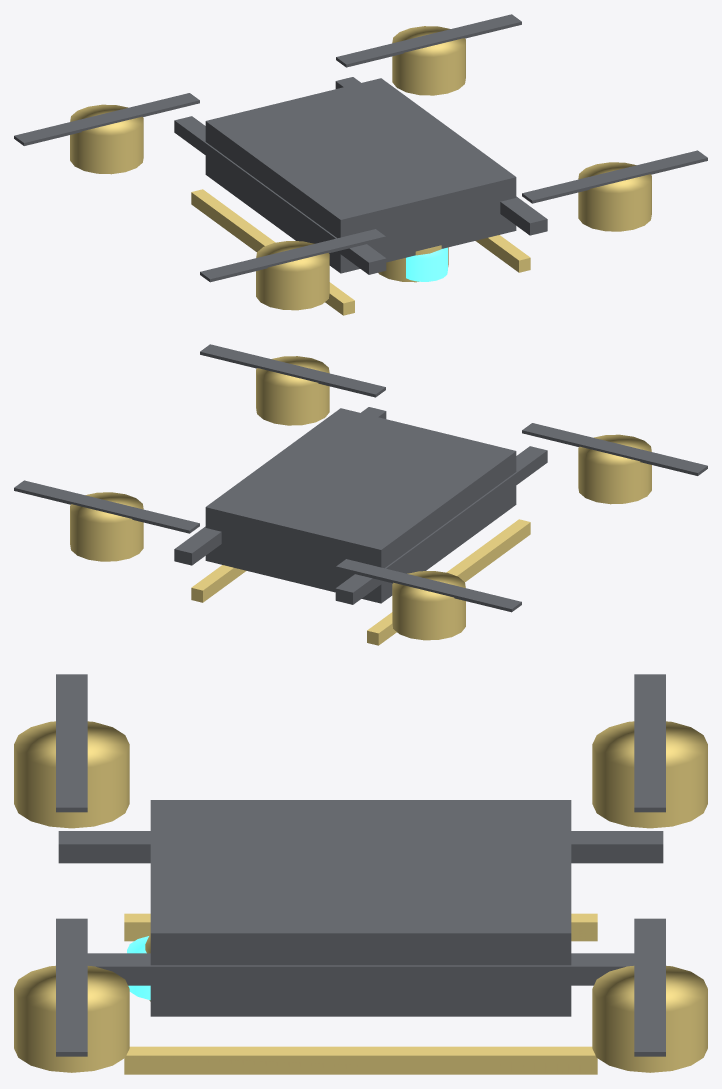
The model's file is aeroscan_mark4_drone.glb.
3 renders of one model, top to bottom at view 1: azimuth 30°, elevation 25°; view 2: azimuth 150°, elevation 25°; view 3: azimuth 270°, elevation 25°, orthographic. The views are drawn at different scales.
Visible parts, largest first — view 1: Fuselage_Body, Motor_FrontRight, Motor_RearRight, Motor_RearLeft, Motor_FrontLeft, Rotor_FrontRight, Rotor_RearRight, Rotor_FrontLeft, Rotor_RearLeft, Skid_Left, Arm_FrontLeft, Arm_RearLeft (+4 smaller); view 2: Fuselage_Body, Motor_RearRight, Motor_FrontRight, Motor_FrontLeft, Motor_RearLeft, Rotor_RearRight, Rotor_FrontRight, Rotor_RearLeft, Rotor_FrontLeft, Skid_Left, Arm_FrontLeft, Arm_RearLeft (+2 smaller); view 3: Fuselage_Body, Skid_Right, Motor_FrontRight, Motor_RearRight, Motor_FrontLeft, Motor_RearLeft, Arm_FrontRight, Arm_RearRight, Rotor_FrontRight, Rotor_FrontLeft, Rotor_RearRight, Rotor_RearLeft (+3 smaller).
Boxes of the visible parts, x1,y1,x2,y2 form: Fuselage_Body: (205, 78, 516, 273); Motor_FrontRight: (578, 162, 651, 231); Motor_RearRight: (392, 26, 465, 95); Motor_RearLeft: (70, 104, 143, 174); Motor_FrontLeft: (256, 241, 329, 310); Rotor_FrontRight: (522, 150, 707, 203); Rotor_RearRight: (336, 14, 521, 67); Rotor_FrontLeft: (200, 229, 385, 282); Rotor_RearLeft: (14, 93, 199, 145); Skid_Left: (191, 189, 354, 315); Arm_FrontLeft: (267, 188, 386, 274); Arm_RearLeft: (174, 116, 276, 202); Fuselage_Body: (205, 408, 516, 603); Motor_RearRight: (70, 492, 143, 561); Motor_FrontRight: (256, 356, 329, 425); Motor_FrontLeft: (578, 434, 651, 504); Motor_RearLeft: (392, 571, 465, 640); Rotor_RearRight: (14, 480, 199, 533); Rotor_FrontRight: (200, 344, 385, 397); Rotor_RearLeft: (336, 559, 521, 612); Rotor_FrontLeft: (522, 423, 707, 475); Skid_Left: (367, 519, 530, 645); Arm_FrontLeft: (445, 446, 547, 536); Arm_RearLeft: (335, 518, 454, 604); Fuselage_Body: (150, 800, 571, 1016); Skid_Right: (124, 1046, 597, 1074); Motor_FrontRight: (14, 965, 129, 1072); Motor_RearRight: (592, 965, 707, 1072); Motor_FrontLeft: (14, 721, 129, 828); Motor_RearLeft: (592, 721, 707, 828); Arm_FrontRight: (87, 953, 373, 985); Arm_RearRight: (348, 953, 634, 985); Rotor_FrontRight: (56, 918, 87, 1056); Rotor_FrontLeft: (56, 674, 87, 812); Rotor_RearRight: (634, 918, 665, 1056); Rotor_RearLeft: (634, 674, 665, 812).
Size of the model in its own units: 3.4 by 0.59 by 2.64.
